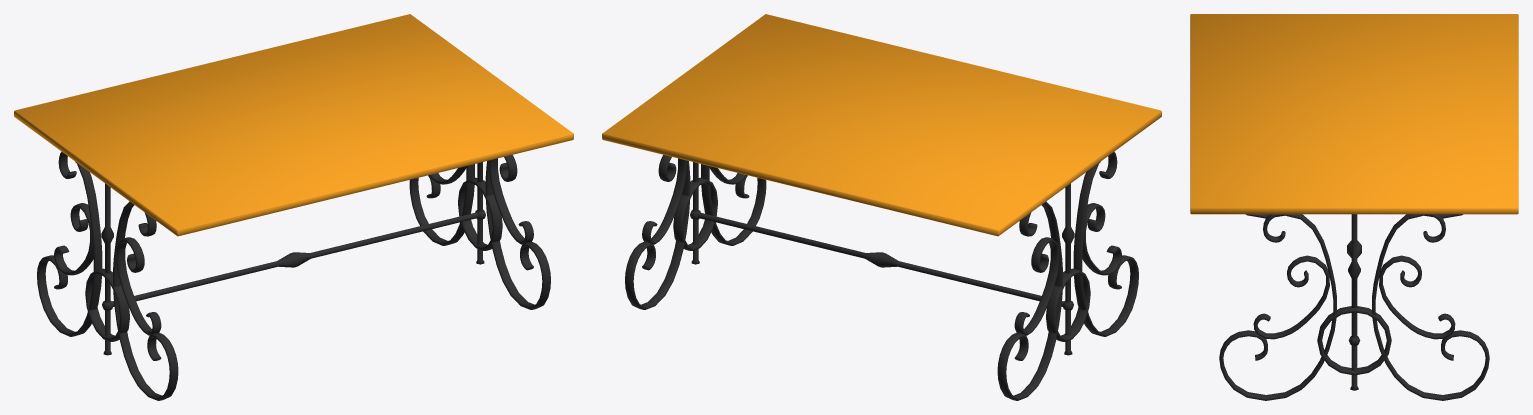
The model's file is Table_1_HP.fbx.
3 views of the same model, side by side, from view 1: azimuth 30°, elevation 25°; view 2: azimuth 150°, elevation 25°; view 3: azimuth 270°, elevation 25° (orthographic).
Visible parts, largest first — view 1: Cube, BézierCurve, BézierCurve.001, BézierCircle, Cylinder.001, Cylinder; view 2: Cube, BézierCurve, BézierCurve.001, BézierCircle, Cylinder.001, Cylinder; view 3: Cube, BézierCurve, BézierCurve.001, BézierCircle, Cylinder.
Part boxes in pixels (x1=…): Cube: x1=14, y1=14, x2=573, y2=236; BézierCurve: x1=37, y1=151, x2=550, y2=400; BézierCurve.001: x1=54, y1=155, x2=533, y2=335; BézierCircle: x1=85, y1=177, x2=502, y2=341; Cylinder.001: x1=111, y1=212, x2=477, y2=306; Cylinder: x1=101, y1=162, x2=484, y2=355; Cube: x1=602, y1=14, x2=1161, y2=236; BézierCurve: x1=625, y1=151, x2=1138, y2=400; BézierCurve.001: x1=642, y1=155, x2=1121, y2=335; BézierCircle: x1=673, y1=177, x2=1090, y2=341; Cylinder.001: x1=698, y1=212, x2=1064, y2=306; Cylinder: x1=691, y1=162, x2=1074, y2=355; Cube: x1=1190, y1=14, x2=1518, y2=214; BézierCurve: x1=1219, y1=214, x2=1489, y2=400; BézierCurve.001: x1=1253, y1=255, x2=1455, y2=339; BézierCircle: x1=1317, y1=306, x2=1391, y2=375; Cylinder: x1=1348, y1=214, x2=1360, y2=390.
Size of the model in its own units: 140 by 66.44 by 100.
